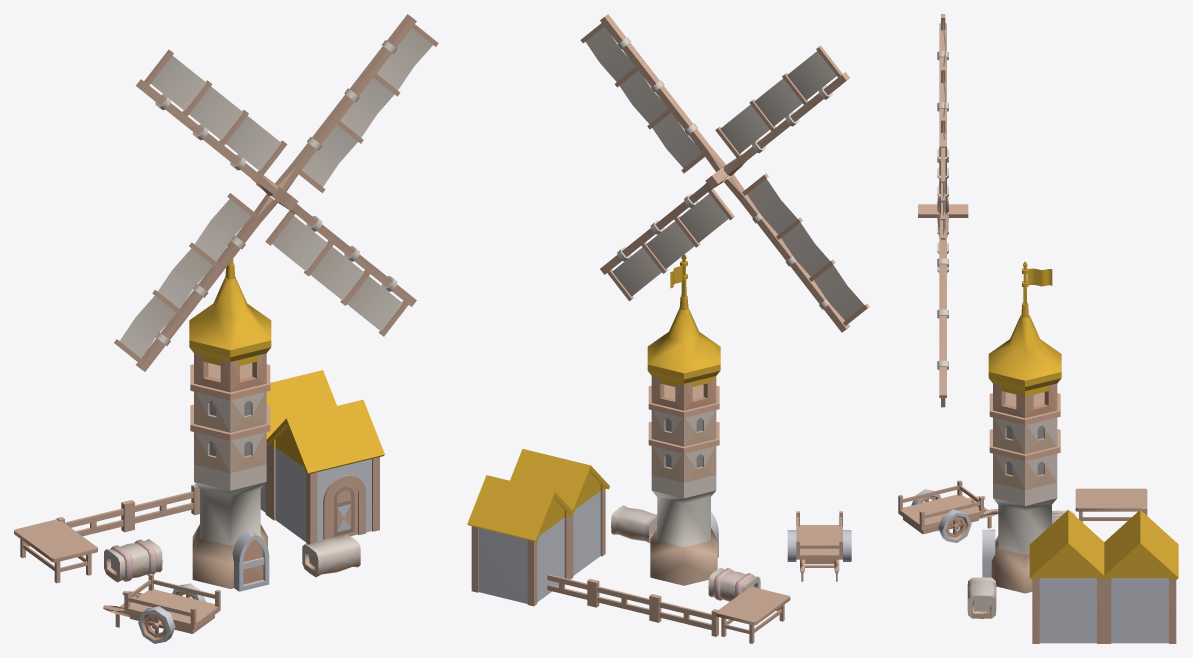
Rendered from mill_l3.glb.
3 renders of one model, left to right at view 1: azimuth 30°, elevation 25°; view 2: azimuth 150°, elevation 25°; view 3: azimuth 270°, elevation 25°, orthographic. The views are drawn at different scales.
Visible parts, largest first — view 1: mill_l3, Sails; view 2: mill_l3, Sails; view 3: mill_l3, Sails.
Part boxes in pixels (left/top/right/bottom): mill_l3: left=14, top=241, right=384, bottom=643; Sails: left=114, top=14, right=438, bottom=371; mill_l3: left=467, top=254, right=851, bottom=643; Sails: left=580, top=14, right=869, bottom=332; mill_l3: left=898, top=261, right=1178, bottom=643; Sails: left=918, top=14, right=968, bottom=407.
Size of the model in its own units: 6.6 by 11.33 by 5.57.
